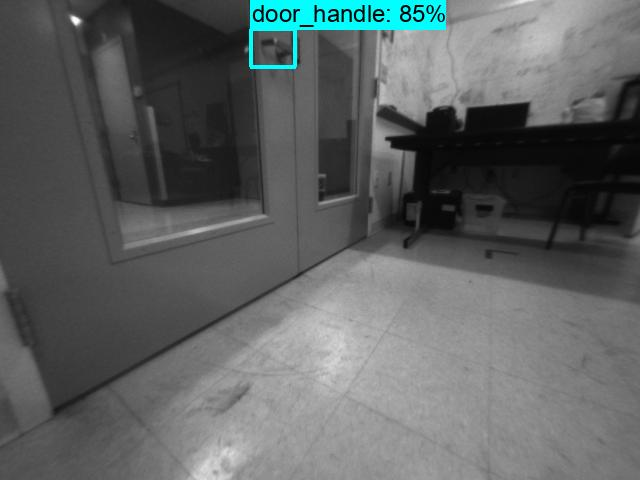door_handle: (256, 31, 297, 66)
